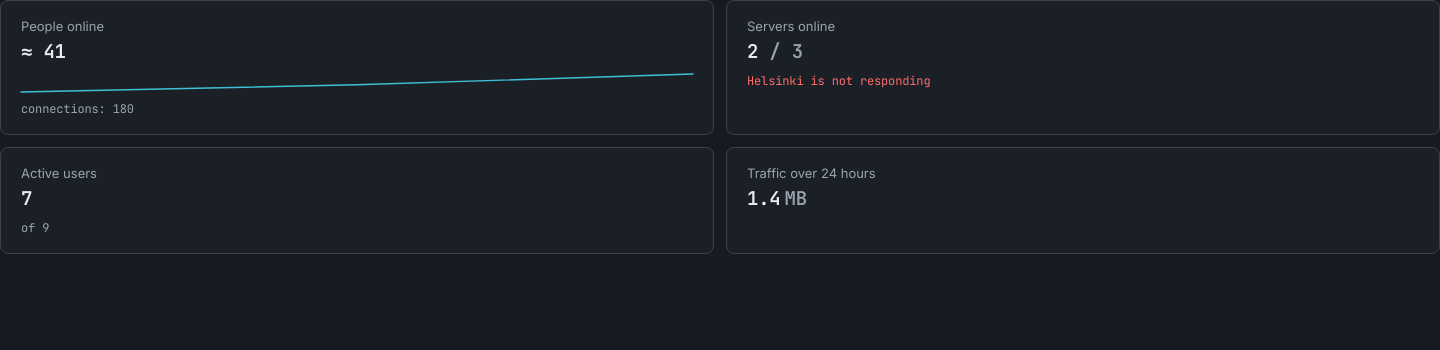
Test case: DashboardMetrics › explains how people are counted
The width and height of the screenshot is (1440, 350).
Hover over the text "People online" at (62, 26), box x1=21 y1=18 x2=104 y2=34
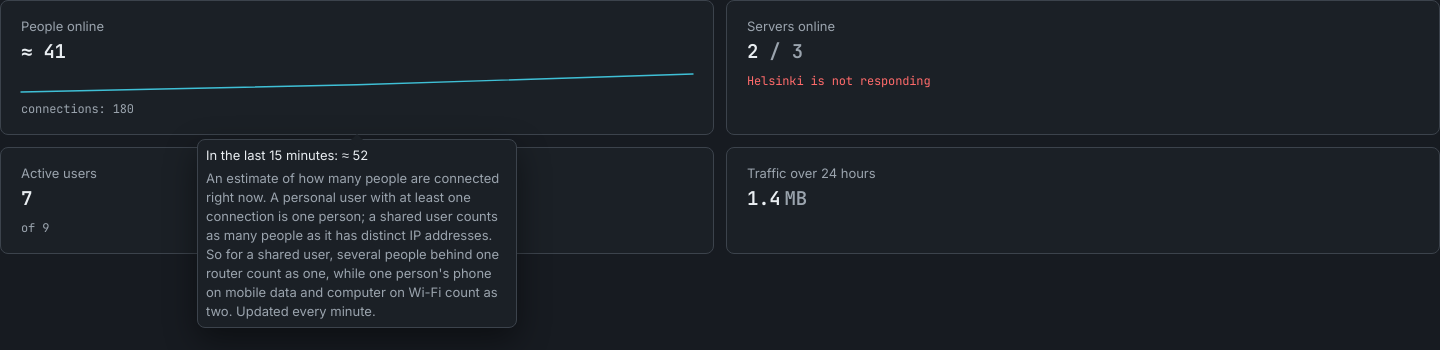
Check: the text "behind one router count as one" is shown, box x1=206 y1=170 x2=499 y2=319
Check: the text "In the last 15 minutes: ≈ 52" is shown, box x1=206 y1=147 x2=368 y2=163
